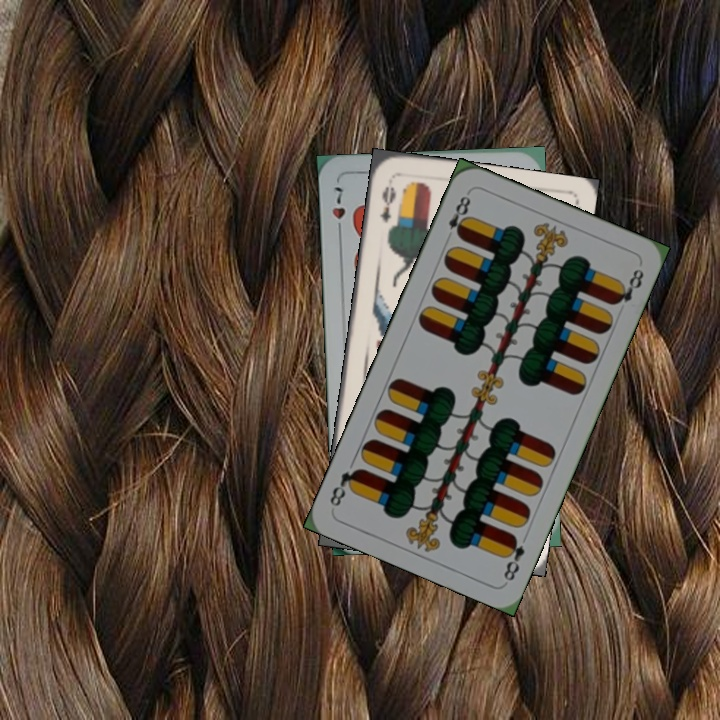E8: (441, 189, 474, 244), (499, 531, 528, 584)
EO: (376, 182, 399, 226)
H7: (328, 182, 348, 239)
